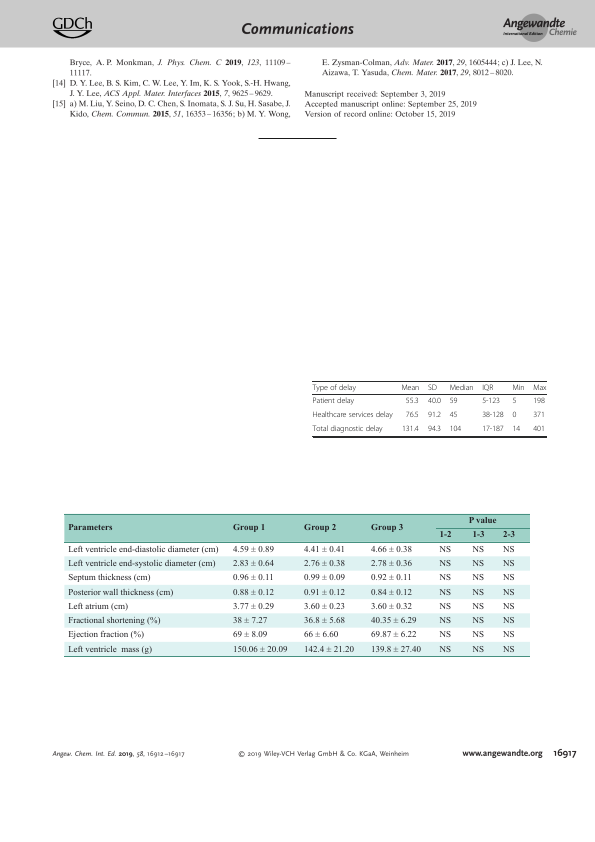borderless: (63, 512, 530, 656), (311, 380, 546, 436)
cell: (66, 545, 219, 555), (66, 559, 216, 569), (66, 588, 174, 598), (66, 616, 161, 626), (66, 573, 151, 584), (66, 645, 152, 655), (66, 630, 144, 641), (312, 411, 394, 421), (312, 425, 384, 435), (66, 602, 128, 612), (232, 645, 288, 655), (370, 630, 417, 641), (303, 645, 354, 655), (370, 645, 421, 655), (370, 616, 417, 626), (232, 573, 274, 584), (303, 573, 345, 584), (370, 573, 412, 584), (67, 524, 113, 534), (312, 397, 355, 407), (232, 545, 274, 555), (303, 545, 345, 555), (370, 545, 412, 555), (232, 559, 274, 569), (303, 559, 345, 569), (370, 559, 412, 569), (232, 588, 274, 598), (303, 588, 345, 598), (370, 588, 412, 598), (232, 602, 274, 612), (303, 602, 345, 612), (370, 602, 412, 612), (303, 616, 345, 626), (312, 384, 357, 393), (232, 630, 268, 641), (303, 630, 339, 641), (232, 616, 268, 626), (369, 524, 404, 534), (232, 524, 266, 534), (303, 524, 337, 534), (467, 517, 497, 527), (481, 411, 505, 421), (481, 425, 505, 435), (449, 384, 474, 393), (481, 397, 501, 407), (401, 425, 420, 435), (400, 384, 420, 393), (438, 573, 452, 584), (471, 573, 485, 584), (438, 630, 452, 641), (471, 630, 485, 641), (405, 397, 420, 407), (427, 397, 442, 407), (405, 411, 420, 421), (427, 411, 442, 421), (427, 425, 442, 435), (502, 573, 515, 584), (502, 630, 515, 641), (438, 531, 452, 541), (471, 531, 485, 541), (501, 531, 515, 541), (438, 545, 452, 555), (471, 545, 485, 555), (438, 559, 452, 569), (471, 559, 485, 569), (438, 588, 452, 598), (471, 588, 485, 598), (438, 602, 452, 612), (471, 602, 485, 612), (438, 616, 452, 626), (471, 616, 485, 626), (438, 645, 452, 655), (471, 645, 485, 655), (532, 397, 546, 407), (532, 411, 546, 421), (532, 425, 546, 435), (532, 384, 547, 393), (502, 545, 515, 555), (502, 559, 515, 569), (502, 588, 515, 598), (502, 602, 515, 612), (502, 616, 515, 626), (502, 645, 515, 655), (449, 425, 462, 435), (511, 384, 525, 393), (481, 384, 494, 393), (511, 425, 521, 435), (427, 384, 438, 393), (449, 397, 458, 407), (449, 411, 458, 421), (511, 397, 517, 407), (511, 411, 517, 421)
